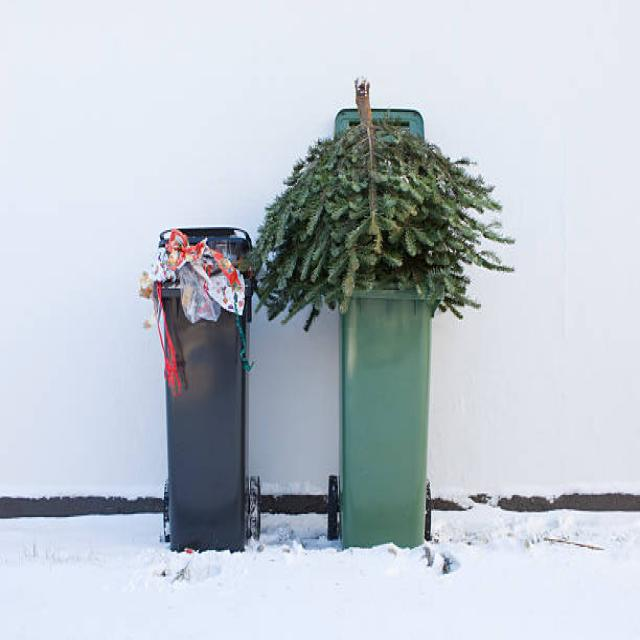trash: (264, 147, 483, 312), (142, 233, 257, 312)
